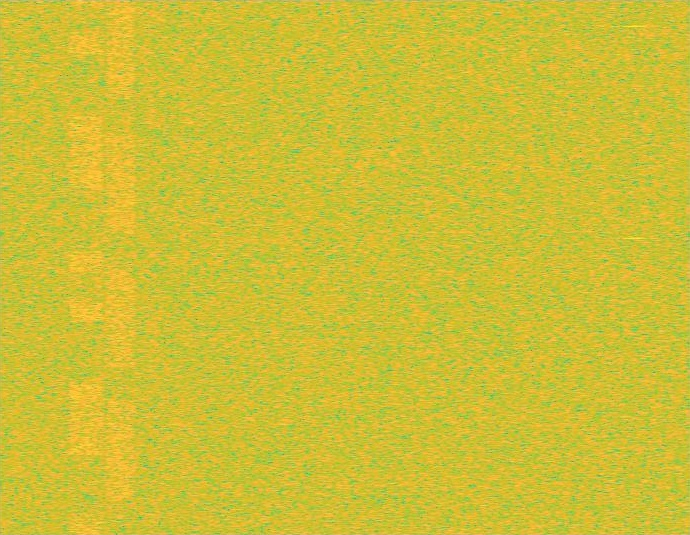5G: (104, 0, 138, 534)
LTE: (69, 0, 104, 534)
Radar: (628, 0, 642, 534)
